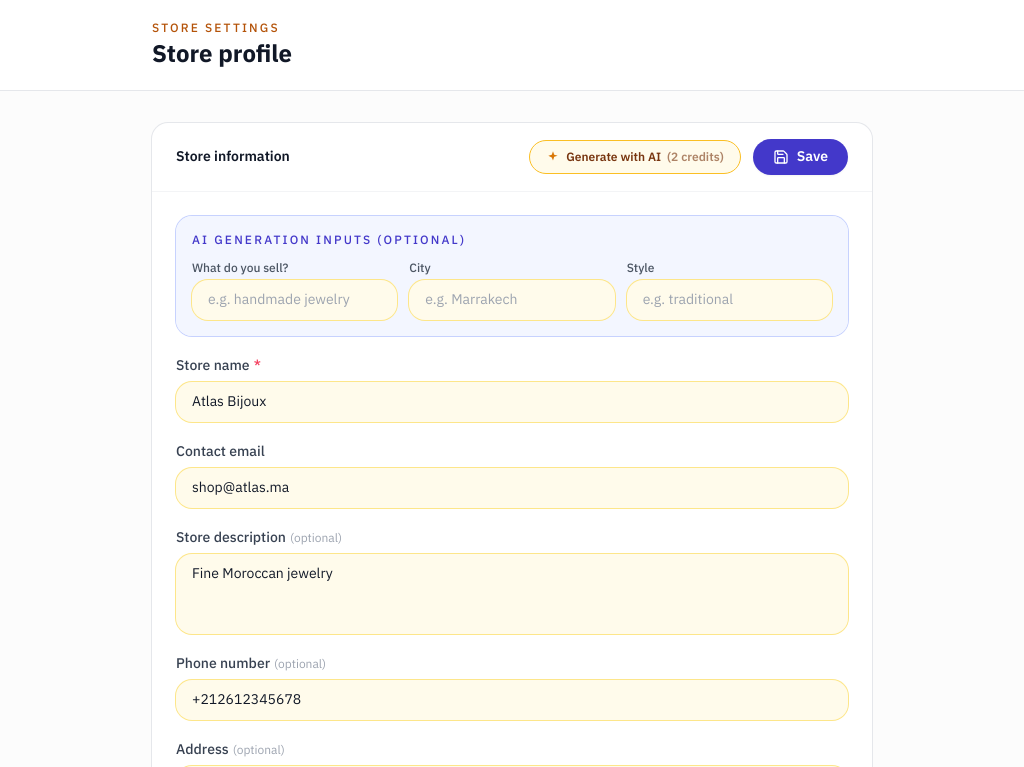
Test: StoreSettingsPage — real load + save › disables save button while request is pending
expect the field showing "Atlas Bijoux" is shown: met, box [176, 382, 848, 422]
Click the button "Save" at (800, 157), box [753, 139, 848, 175]
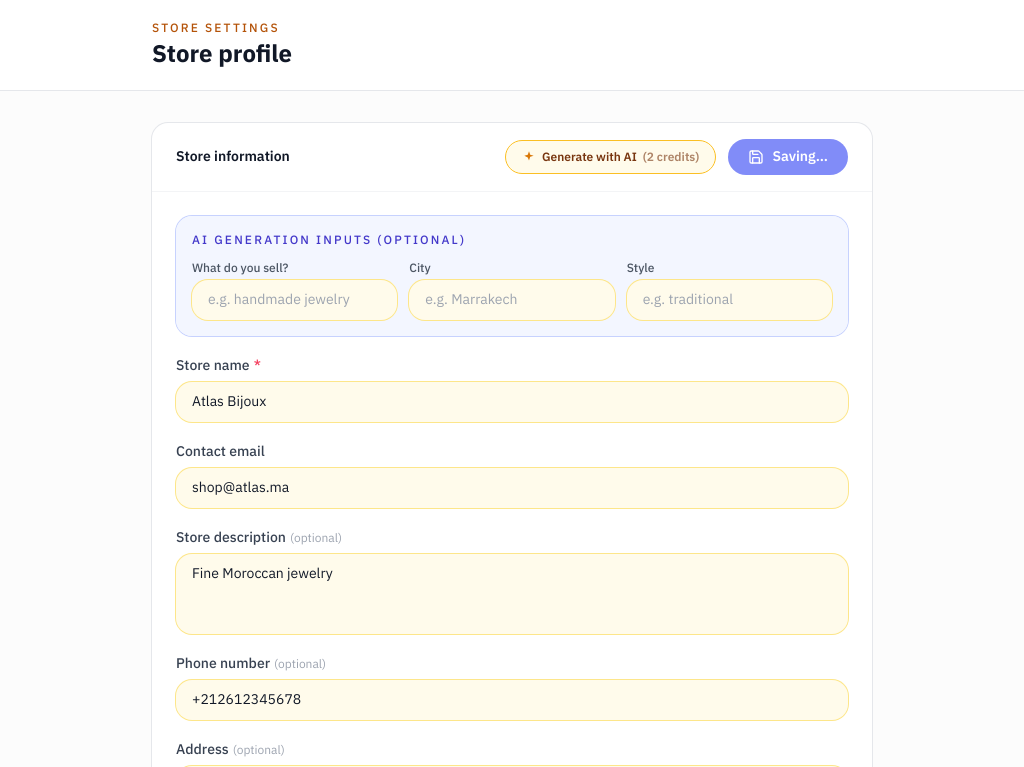
expect the button "Saving…" is disabled: met, box [728, 139, 848, 175]
